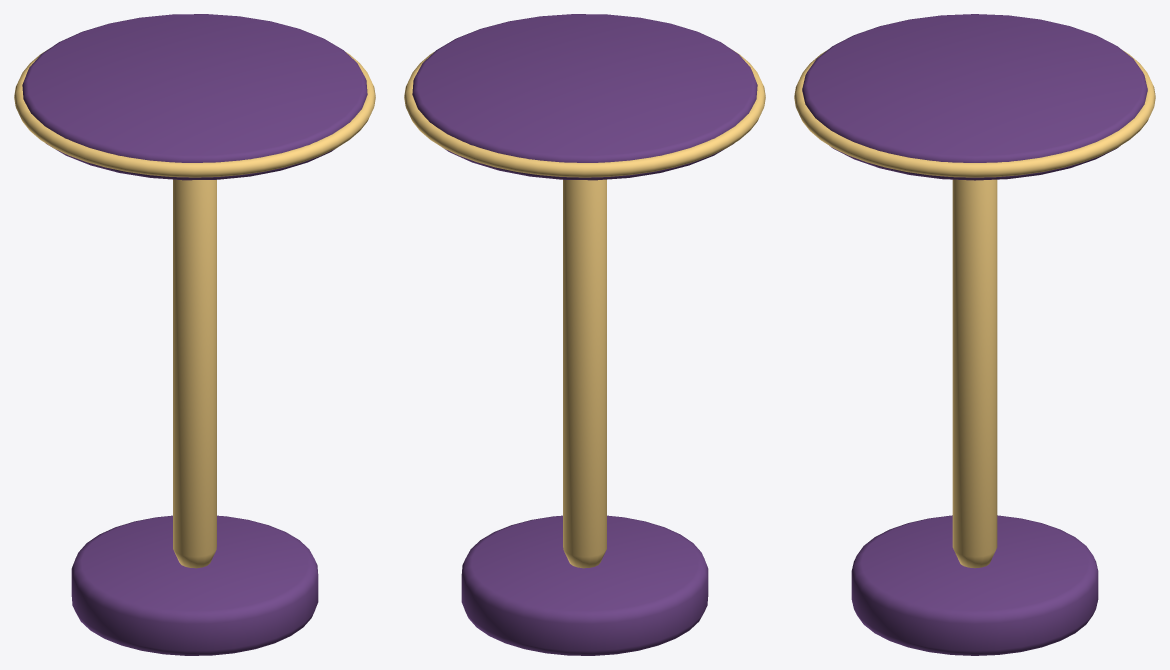
Rendered from q_magic_stand.glb.
The picture shows the model from 3 angles, left to right: view 1: azimuth 30°, elevation 25°; view 2: azimuth 150°, elevation 25°; view 3: azimuth 270°, elevation 25°; orthographic projection.
Parts seen in each view (by area): view 1: q_magic_stand / material batches; view 2: q_magic_stand / material batches; view 3: q_magic_stand / material batches.
Part boxes in pixels (box(x1,y1,x2,y2)): q_magic_stand / material batches: box(14, 14, 375, 655); q_magic_stand / material batches: box(404, 14, 765, 655); q_magic_stand / material batches: box(794, 14, 1155, 655).
Bounding box in the file's own units: 0.732 × 1.17 × 0.732.
